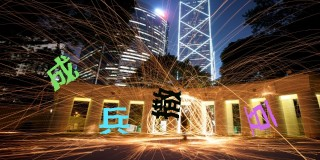兵: (99, 106, 129, 134)
成: (46, 54, 80, 91)
撒: (151, 85, 183, 120)
豆: (242, 99, 278, 132)
